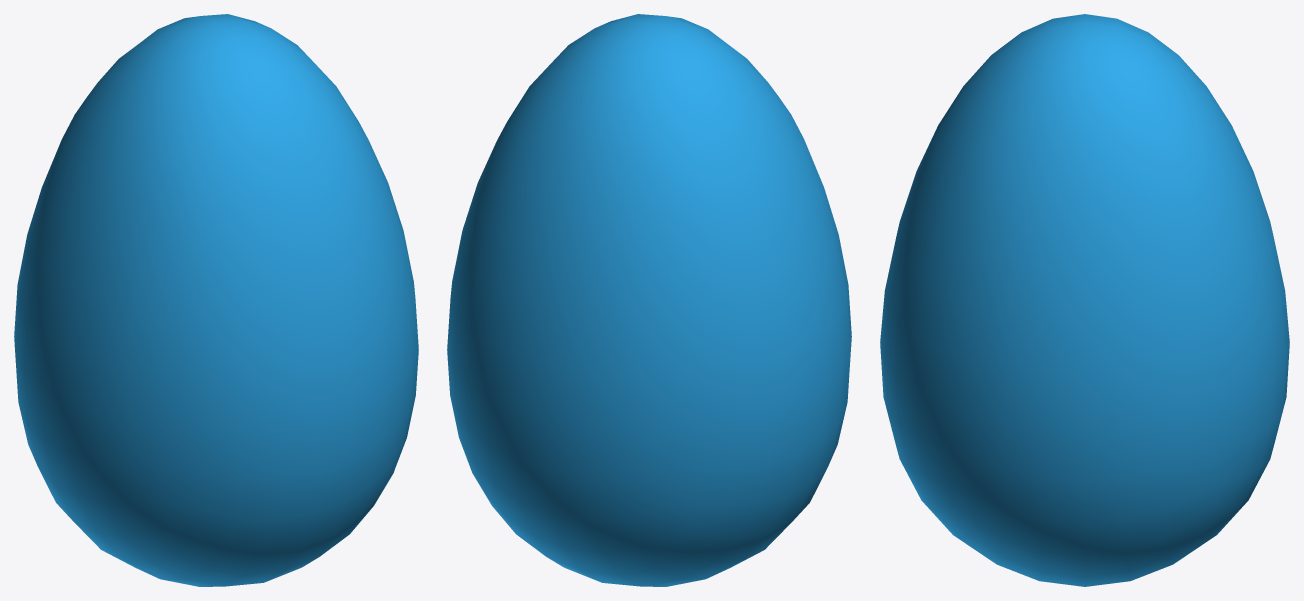
File: egg.glb
3 renders of one model, left to right at view 1: azimuth 30°, elevation 25°; view 2: azimuth 150°, elevation 25°; view 3: azimuth 270°, elevation 25°, orthographic.
Visible parts, largest first — view 1: egg; view 2: egg; view 3: egg.
Part boxes in pixels (left/top/right/bottom): egg: left=14, top=14, right=418, bottom=586; egg: left=447, top=14, right=851, bottom=586; egg: left=880, top=14, right=1289, bottom=586.
Size of what is drawn, in the model's own units: 1.76 by 2.64 by 1.79.
